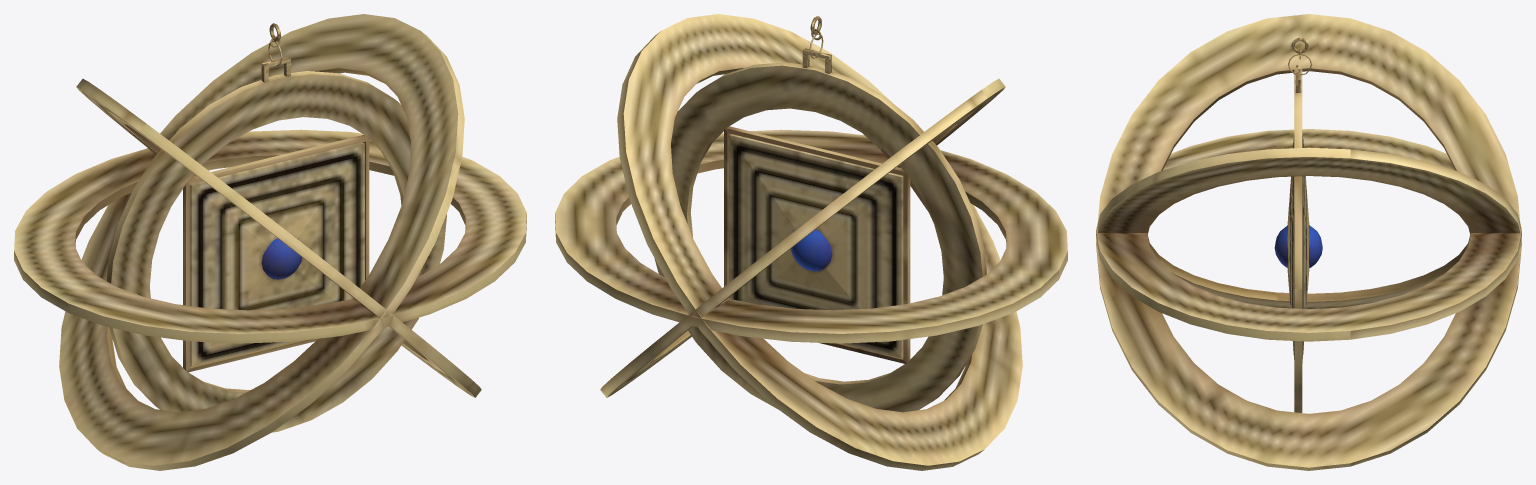
Rendered from amulet-six-shards.glb.
The picture shows the model from 3 angles, left to right: view 1: azimuth 30°, elevation 25°; view 2: azimuth 150°, elevation 25°; view 3: azimuth 270°, elevation 25°; orthographic projection. The views are drawn at different scales.
Visible parts, largest first — view 1: AmuletShard4, AmuletShard1, AmuletShard3, AmuletShard6, AmuletShard2, AmuletShard5; view 2: AmuletShard4, AmuletShard3, AmuletShard1, AmuletShard6, AmuletShard2, AmuletShard5; view 3: AmuletShard6, AmuletShard3, AmuletShard1, AmuletShard4, AmuletShard2, AmuletShard5.
Boxes of the visible parts, <box> form: AmuletShard4: <box>59,145,385,470</box>; AmuletShard1: <box>160,14,464,306</box>; AmuletShard3: <box>14,78,384,342</box>; AmuletShard6: <box>202,129,526,397</box>; AmuletShard2: <box>185,23,333,227</box>; AmuletShard5: <box>193,174,429,432</box>; AmuletShard4: <box>696,145,1022,470</box>; AmuletShard3: <box>697,78,1067,342</box>; AmuletShard1: <box>617,14,894,306</box>; AmuletShard6: <box>555,129,890,397</box>; AmuletShard2: <box>760,16,908,218</box>; AmuletShard5: <box>652,166,900,409</box>; AmuletShard6: <box>1096,223,1521,470</box>; AmuletShard3: <box>1097,14,1520,222</box>; AmuletShard1: <box>1098,120,1519,274</box>; AmuletShard4: <box>1096,216,1521,308</box>; AmuletShard2: <box>1288,38,1312,220</box>; AmuletShard5: <box>1096,225,1521,354</box>.
Size of the model in its own units: 2.84 by 2.4 by 2.5.
1 material, 1 textured.
